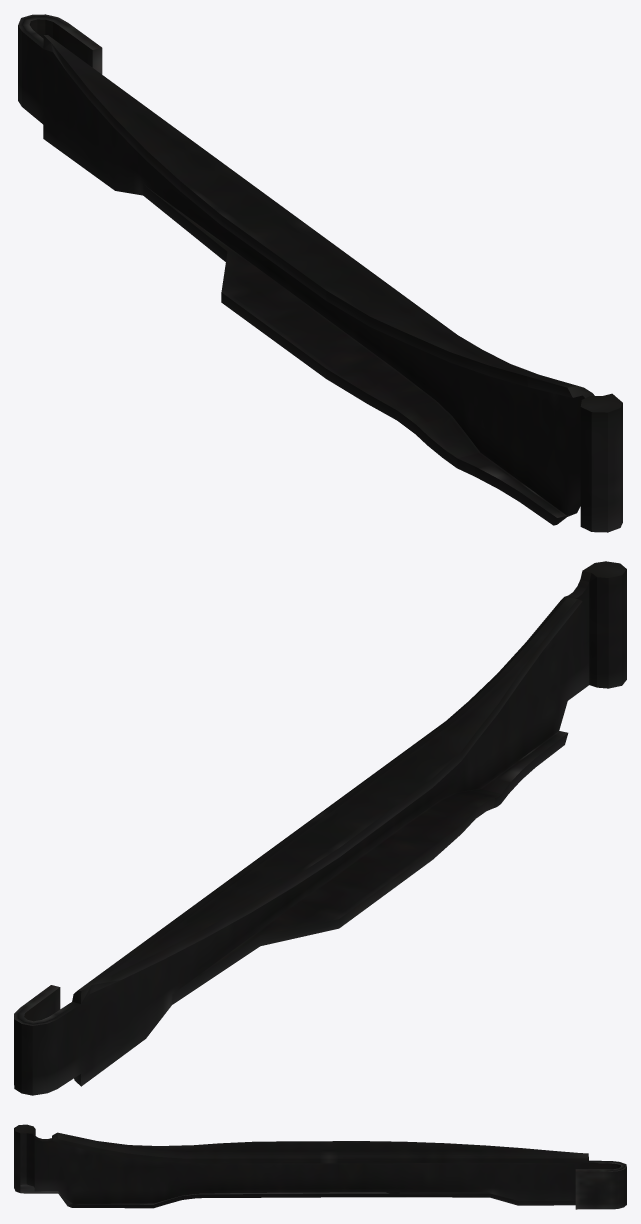
3 renders of one model, top to bottom at view 1: azimuth 30°, elevation 25°; view 2: azimuth 150°, elevation 25°; view 3: azimuth 270°, elevation 25°, orthographic. The views are drawn at different scales.
Parts seen in each view (by area): view 1: TW_64ca3d3954fc657e230529cc_PZ_Import; view 2: TW_64ca3d3954fc657e230529cc_PZ_Import; view 3: TW_64ca3d3954fc657e230529cc_PZ_Import.
Boxes of the visible parts, box(x1,y1,x2,y2) form: TW_64ca3d3954fc657e230529cc_PZ_Import: box(18, 14, 622, 532); TW_64ca3d3954fc657e230529cc_PZ_Import: box(14, 561, 626, 1095); TW_64ca3d3954fc657e230529cc_PZ_Import: box(14, 1124, 626, 1209).
Bounding box in the file's own units: 0.00568 × 0.0623 × 0.00873.
1 material, 1 textured.
